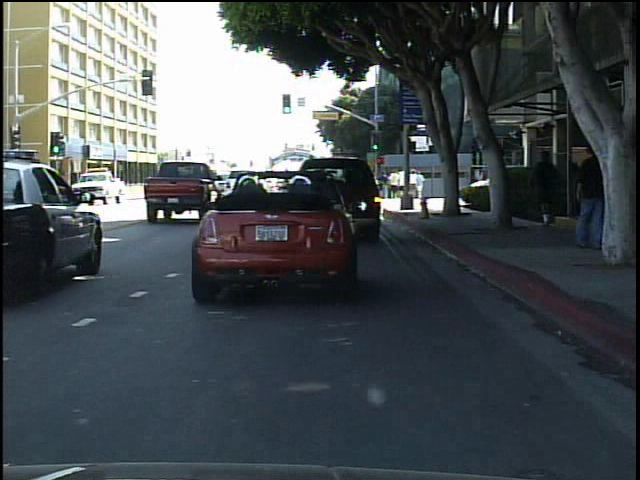person: (569, 139, 611, 258), (528, 146, 567, 236), (143, 173, 161, 200)
